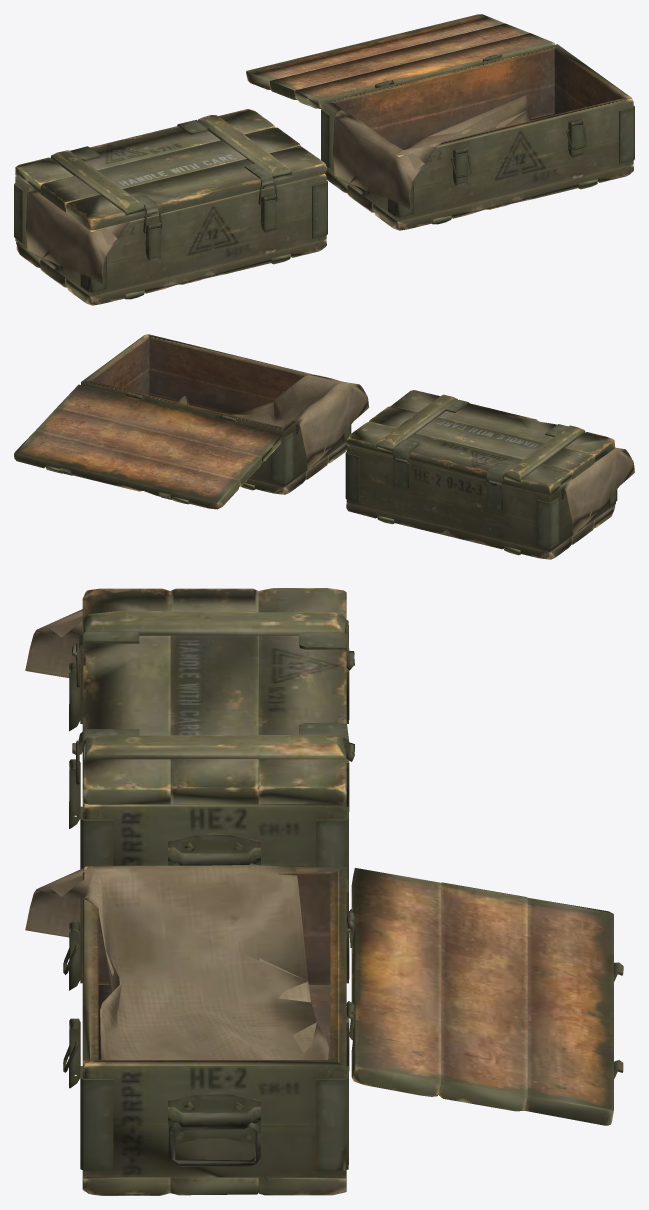
File: mil_crate.glb
3 views of the same model, one above another, from view 1: azimuth 30°, elevation 25°; view 2: azimuth 150°, elevation 25°; view 3: azimuth 270°, elevation 25° (orthographic). The views are drawn at different scales.
Visible parts, largest first — view 1: old_military_crate_lid_a; view 2: old_military_crate_lid_a; view 3: old_military_crate_lid_a.
Boxes of the visible parts, x1,y1,x2,y2 form: old_military_crate_lid_a: [14, 14, 634, 305]; old_military_crate_lid_a: [14, 334, 634, 559]; old_military_crate_lid_a: [25, 588, 623, 1195].
Size of the model in its own units: 1.81 by 0.3009 by 0.9753.
1 material, 1 textured.
